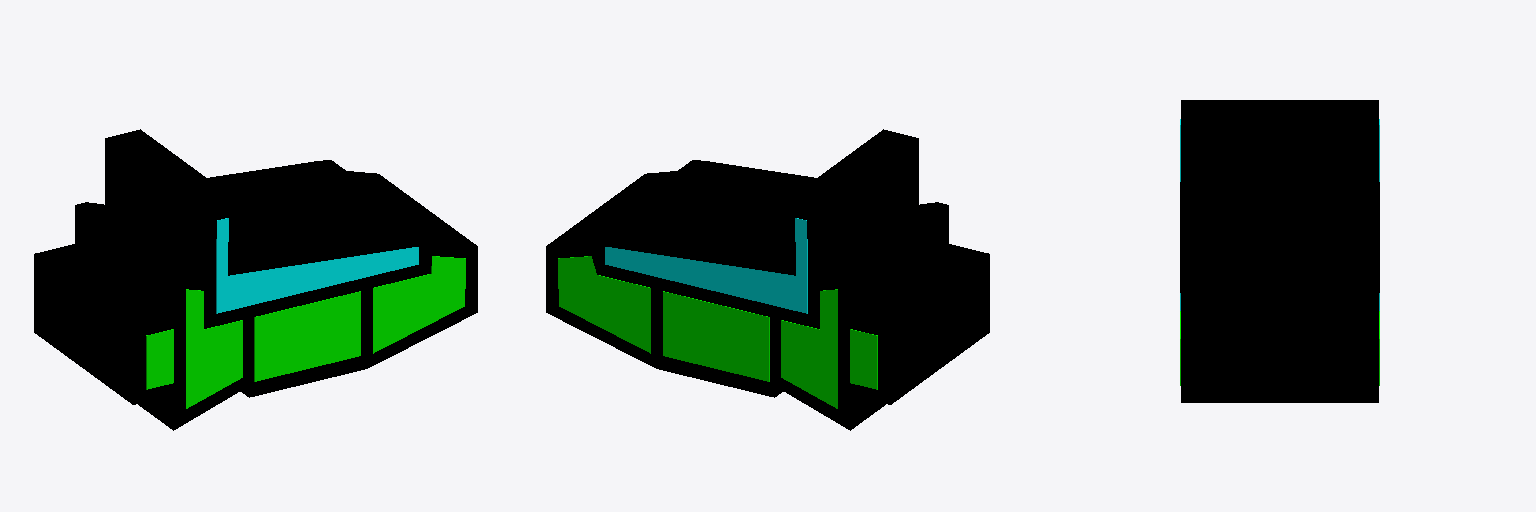
3 views of the same model, side by side, from view 1: azimuth 30°, elevation 25°; view 2: azimuth 150°, elevation 25°; view 3: azimuth 270°, elevation 25° (orthographic).
Visible parts, largest first — view 1: Ships.001; view 2: Ships.001; view 3: Ships.001.
Part boxes in pixels (x1,y1,x2,y2): Ships.001: (34,129,477,430); Ships.001: (546,129,989,430); Ships.001: (1180,100,1379,402).
Bounding box in the file's own units: 4.08 × 2.41 × 2.05.